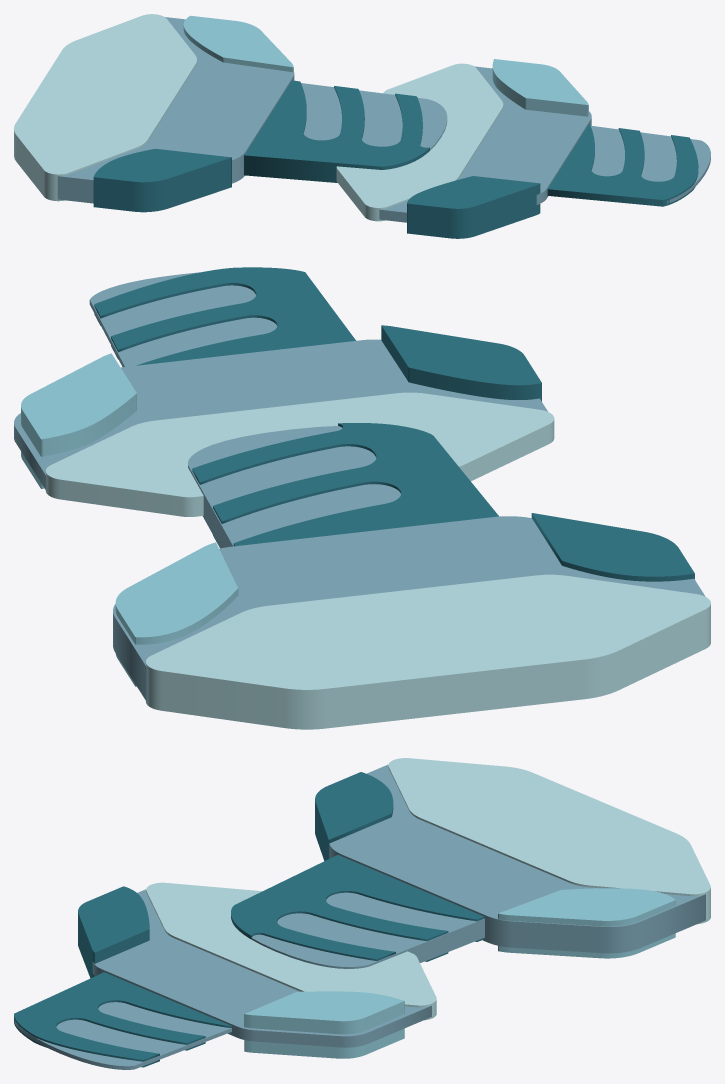
File: emoji_u1f529.glb
3 views of the same model, one above another, from view 1: azimuth 30°, elevation 25°; view 2: azimuth 150°, elevation 25°; view 3: azimuth 270°, elevation 25° (orthographic). The views are drawn at different scales.
Parts seen in each view (by area): view 1: emoji_u1f529; view 2: emoji_u1f529; view 3: emoji_u1f529.
Part boxes in pixels (<box>): emoji_u1f529: <box>14,14,710,238</box>; emoji_u1f529: <box>14,267,710,729</box>; emoji_u1f529: <box>14,758,710,1069</box>.
Size of the model in its own units: 0.0337 by 0.002 by 0.0336.
